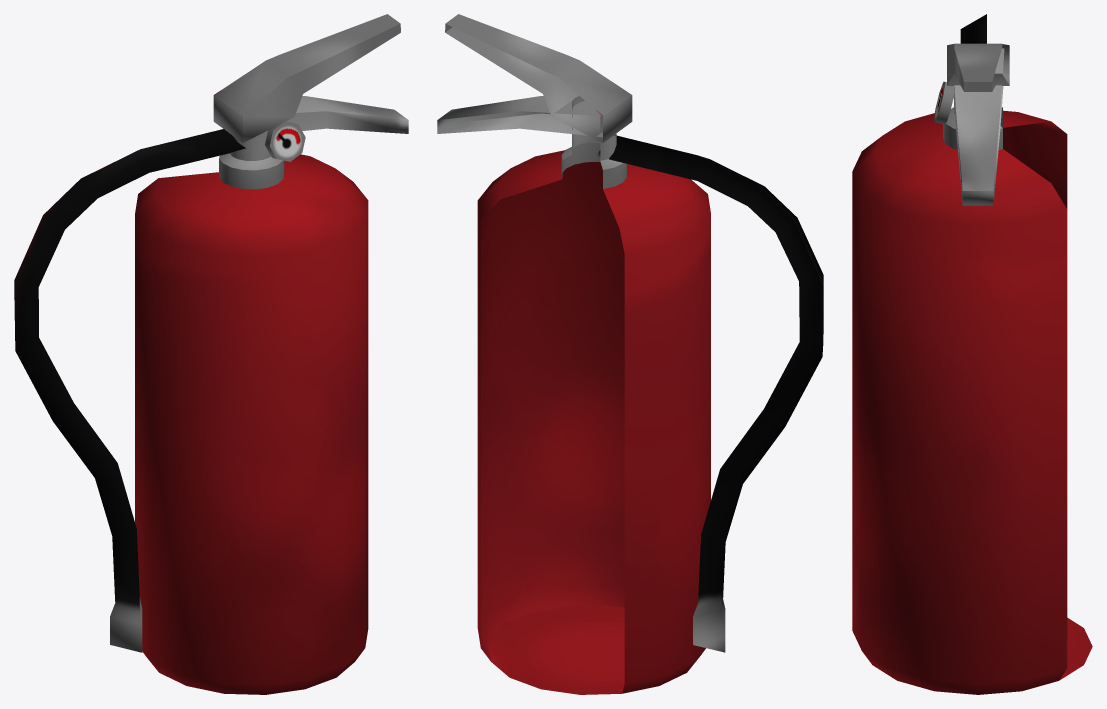
The model's file is FireExtinguisher.fbx.
The picture shows the model from 3 angles, left to right: view 1: azimuth 30°, elevation 25°; view 2: azimuth 150°, elevation 25°; view 3: azimuth 270°, elevation 25°; orthographic projection. The views are drawn at different scales.
Visible parts, largest first — view 1: Cube.001; view 2: Cube.001; view 3: Cube.001.
Part boxes in pixels (<box>): Cube.001: <box>14,14,408,694</box>; Cube.001: <box>437,14,823,694</box>; Cube.001: <box>852,14,1092,694</box>.
Bounding box in the file's own units: 69.25 × 103 × 35.13.
